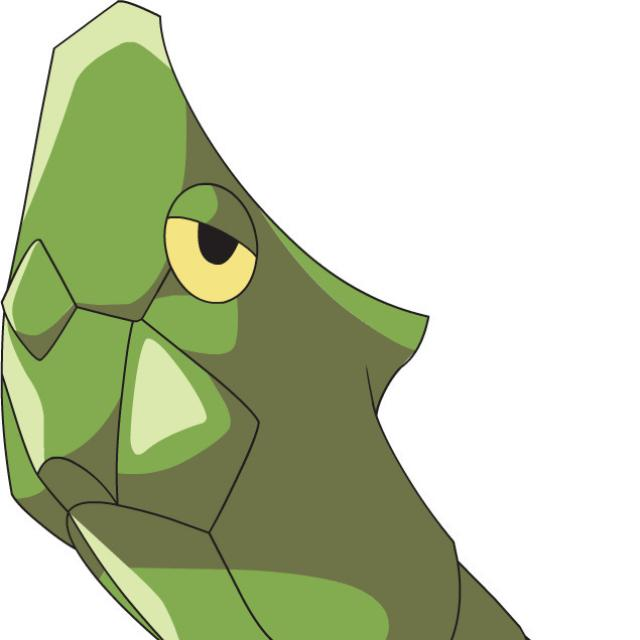Metapod: (6, 0, 436, 640)
